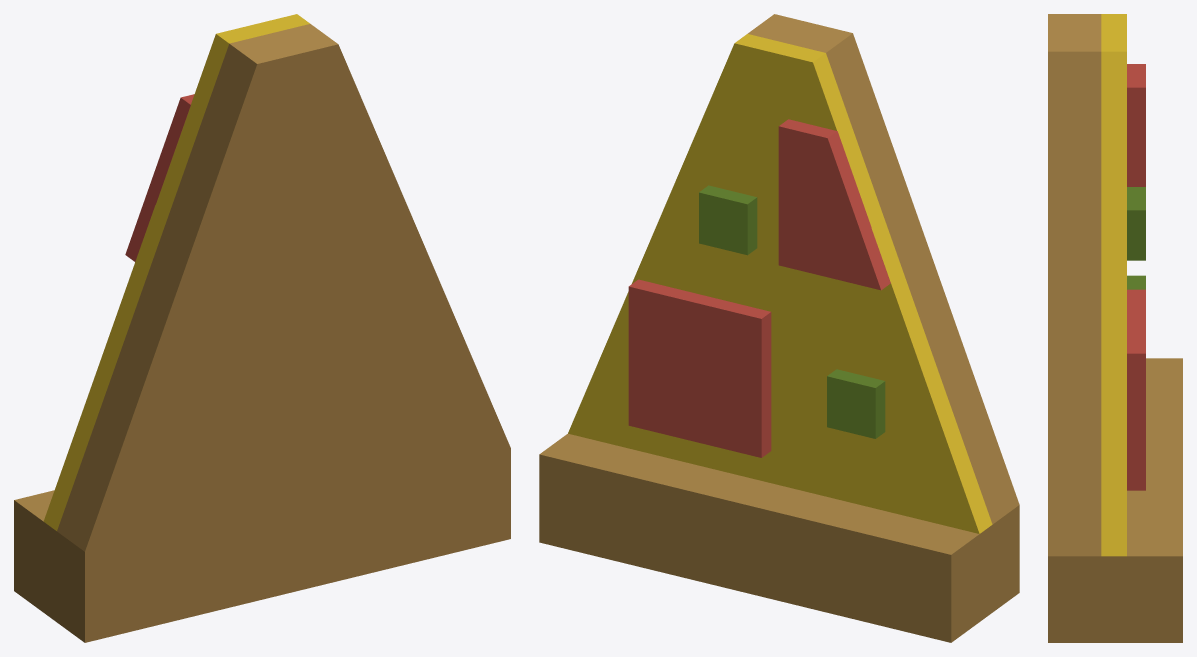
The model's file is Pizza_Sliced.fbx.
3 views of the same model, side by side, from view 1: azimuth 30°, elevation 25°; view 2: azimuth 150°, elevation 25°; view 3: azimuth 270°, elevation 25° (orthographic). The views are drawn at different scales.
Visible parts, largest first — view 1: Pizza_Bottom, Pizza_Top; view 2: Pizza_Bottom, Pizza_Top; view 3: Pizza_Bottom, Pizza_Top.
Part boxes in pixels (x1,y1,x2,y2): Pizza_Bottom: (14,257,510,642); Pizza_Top: (125,14,429,319); Pizza_Bottom: (539,249,1019,642); Pizza_Top: (646,14,940,309); Pizza_Bottom: (1048,275,1182,642); Pizza_Top: (1048,14,1145,318).
Size of the model in its own units: 45.97 by 55.36 by 13.23.
